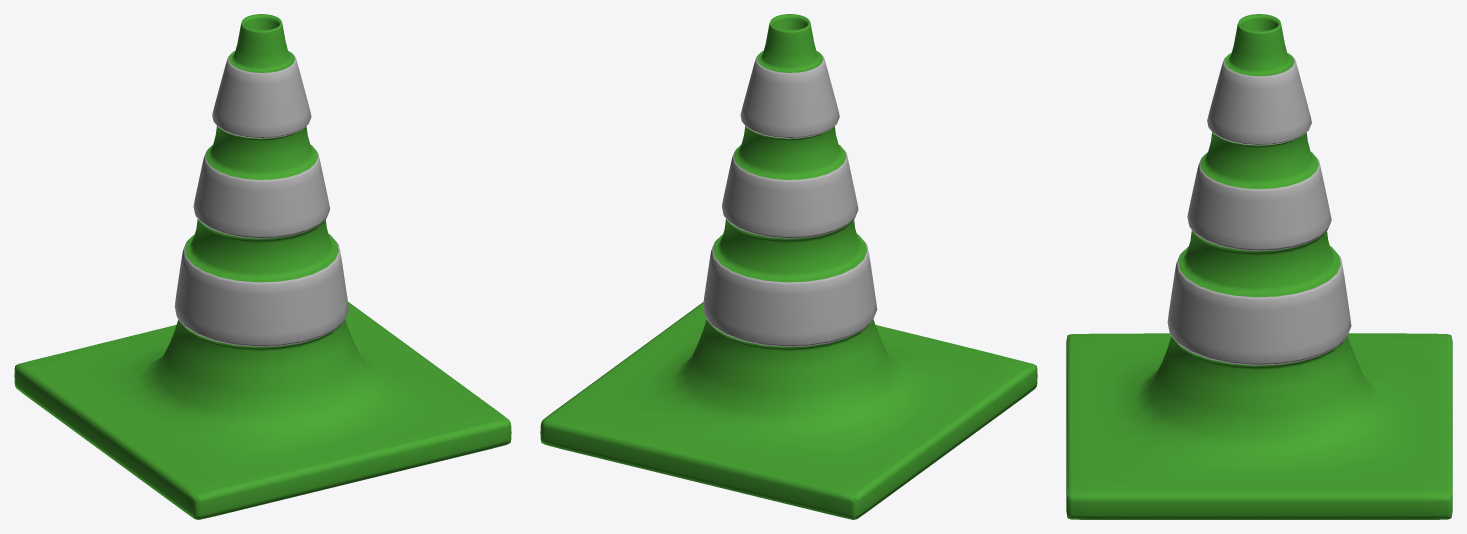
The model's file is ConoVerde.fbx.
The picture shows the model from 3 angles, left to right: view 1: azimuth 30°, elevation 25°; view 2: azimuth 150°, elevation 25°; view 3: azimuth 270°, elevation 25°; orthographic projection. The views are drawn at different scales.
Parts seen in each view (by area): view 1: Cube.002; view 2: Cube.002; view 3: Cube.002.
Part boxes in pixels (left/top/right/bottom): Cube.002: left=14, top=14, right=511, bottom=519; Cube.002: left=540, top=14, right=1037, bottom=519; Cube.002: left=1066, top=14, right=1452, bottom=519.
Size of the model in its own units: 198 by 236 by 198.
